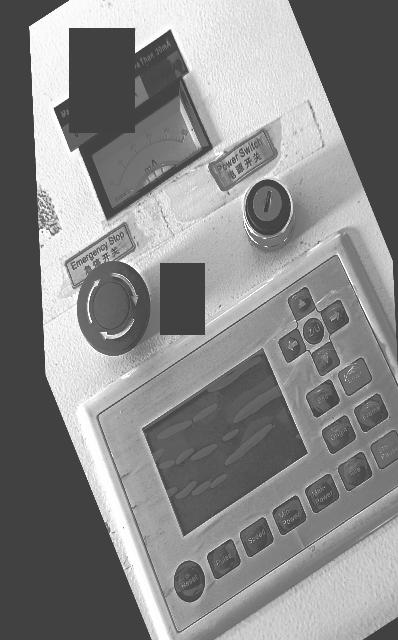Amp_Meter: (79, 32, 212, 219)
Display: (144, 351, 307, 536)
Down_button: (312, 342, 340, 376)
Emergency_Stop: (77, 261, 151, 356)
Enter_button: (339, 358, 372, 396)
Esc_button: (307, 380, 339, 417)
File_button: (338, 452, 372, 491)
Frame_button: (355, 394, 388, 432)
Left_button: (279, 328, 306, 362)
Max-Power_button: (305, 474, 339, 513)
Min-Power_button: (273, 496, 306, 535)
Origin_button: (322, 416, 355, 454)
Power_switch: (243, 179, 295, 251)
Pulse_button: (208, 540, 240, 579)
Reset_button: (175, 561, 205, 602)
Right_button: (321, 300, 349, 334)
Speed_button: (240, 518, 273, 557)
Start-Pause_button: (371, 431, 398, 469)
Up_button: (288, 288, 315, 321)
Z_U_button: (303, 318, 324, 344)
